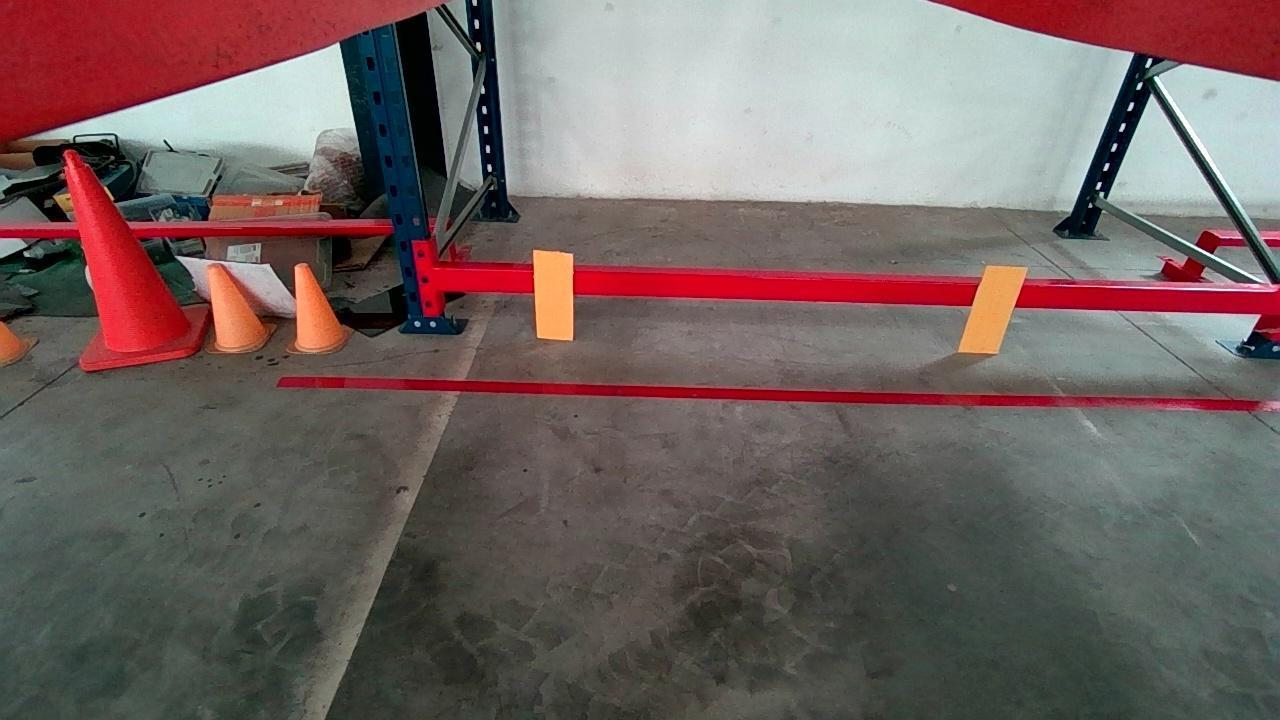h_rack: (437, 269, 1274, 316)
orange_strip: (958, 266, 1026, 351), (532, 250, 576, 339)
red_line: (273, 373, 1280, 410)
